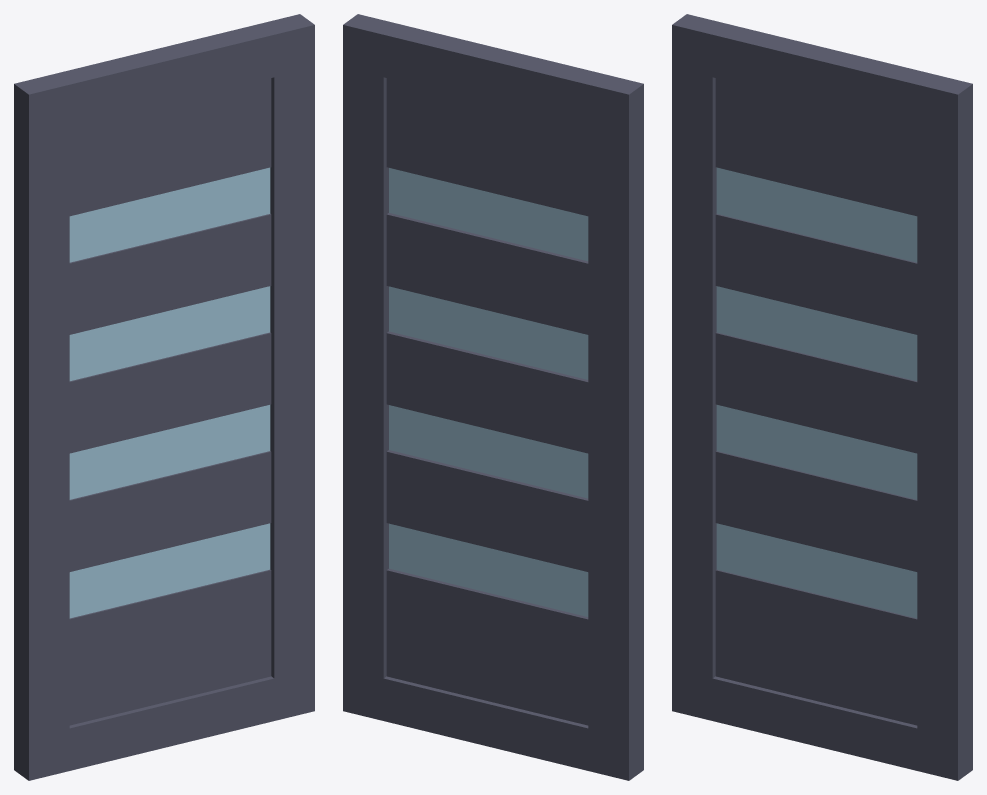
Rendered from Door5_C4.fbx.
3 renders of one model, left to right at view 1: azimuth 30°, elevation 25°; view 2: azimuth 150°, elevation 25°; view 3: azimuth 330°, elevation 25°, orthographic.
Parts seen in each view (by area): view 1: Door5_C4; view 2: Door5_C4; view 3: Door5_C4.
Part boxes in pixels (left/top/right/bottom): Door5_C4: left=14, top=14, right=314, bottom=780; Door5_C4: left=343, top=14, right=643, bottom=780; Door5_C4: left=672, top=14, right=972, bottom=780.
Size of the model in its own units: 0.89 by 2.04 by 0.08.
